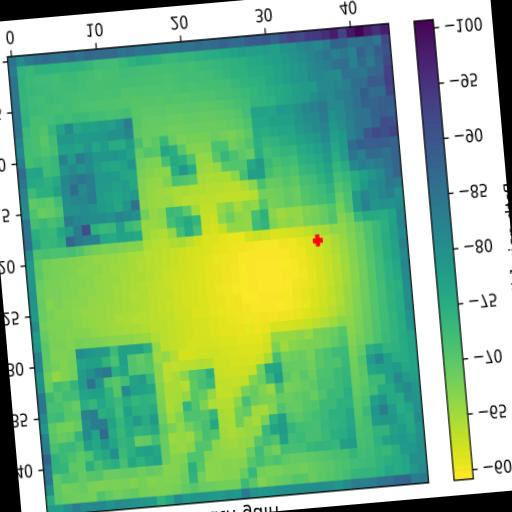Concrete: (270, 325, 359, 455)
Glass: (75, 343, 163, 470)
Metal: (252, 102, 338, 229)
Wood: (56, 118, 144, 248)
